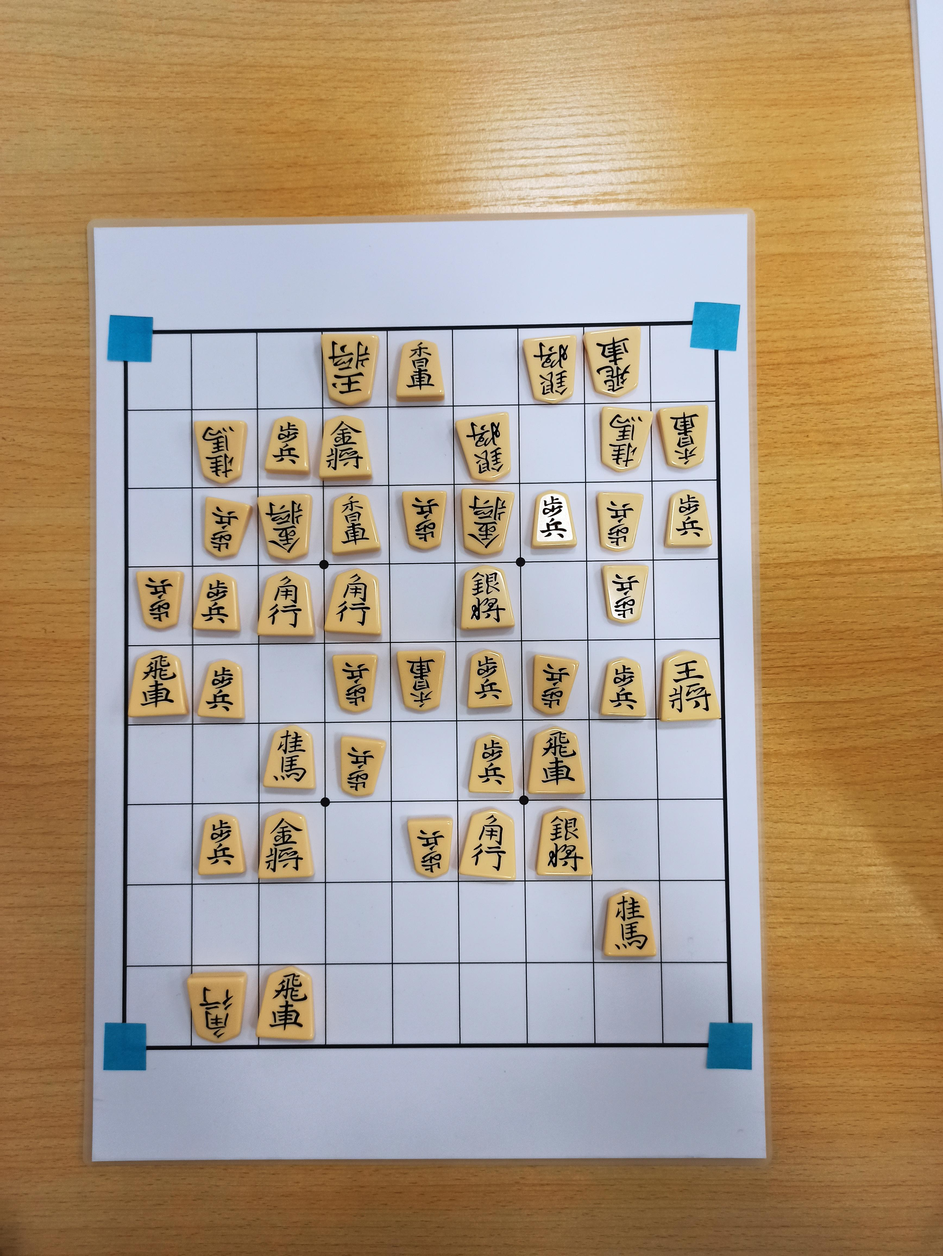board: (123, 324, 731, 1046)
